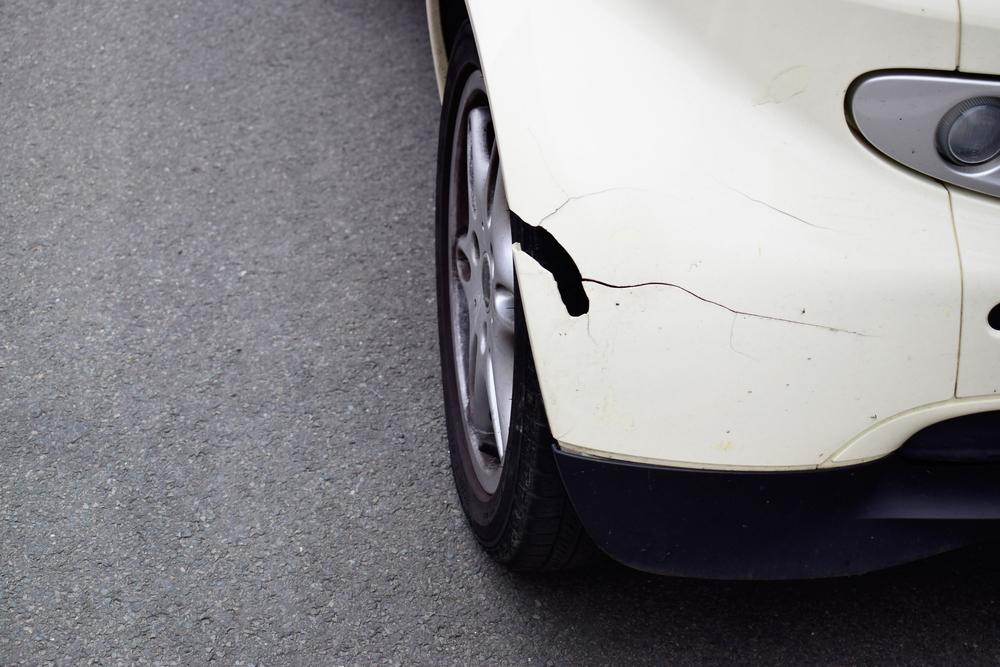crack: (510, 187, 876, 356)
